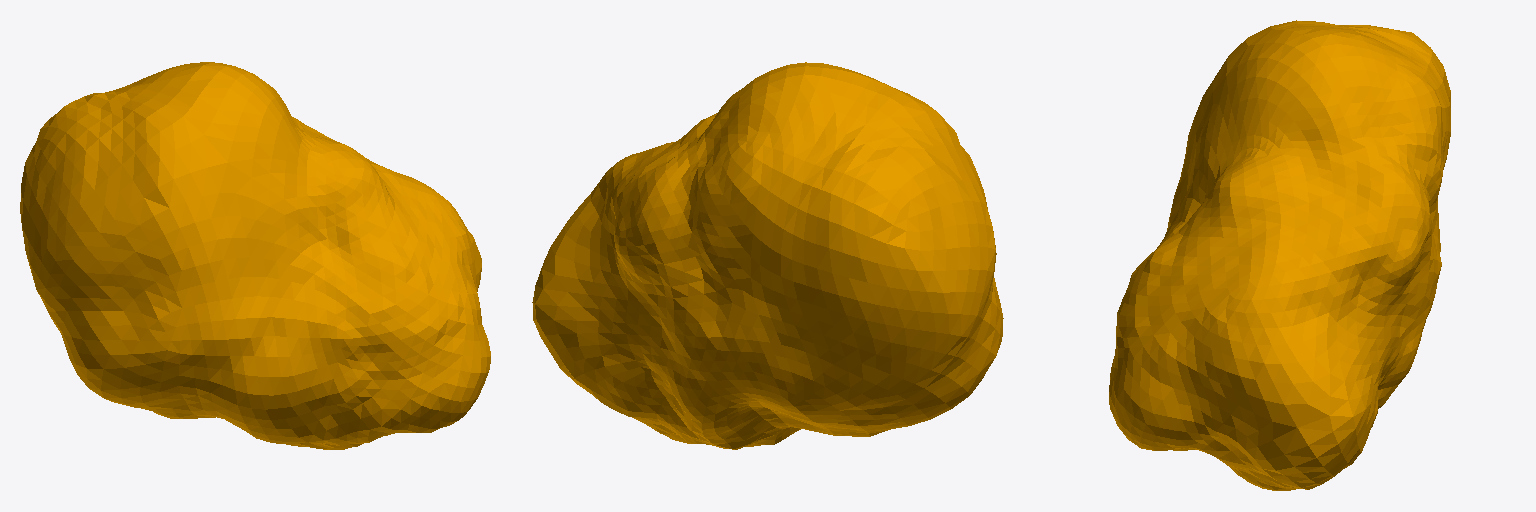
The robot description file, URDF, robot "rock":
<?xml version="1.0" ?>
<robot name="rock">
  <link name="rock">
    <inertial>
      <mass value="0.25"/>
      <origin rpy="0 0 0" xyz="0 0 0"/>
      <inertia ixx="0.00025" ixy="0" ixz="0" iyy="0.00025" iyz="0" izz="0.00025"/>
    </inertial>
    <collision name="rock_collision">
      <origin rpy="0 0 0" xyz="0 0 0"/>
      <geometry>
        <mesh filename="package://rock/meshes/rock2.stl" scale="1 1 1"/>
      </geometry>
    </collision>
    <visual name="rock_visual">
      <origin rpy="0 0 0" xyz="0 0 0"/>
      <geometry>
        <mesh filename="package://rock/meshes/rock2.dae" scale="1 1 1"/>
      </geometry>
    </visual>
  </link>
</robot>

--- What the picture shows (computed from the rendered views, not written in the file) ---
The picture shows the robot from 3 angles, left to right: view 1: azimuth 30°, elevation 25°; view 2: azimuth 150°, elevation 25°; view 3: azimuth 270°, elevation 25°; orthographic projection.
Robot: rock — 1 links, 0 joints (none); root link rock; default pose: all joints at 0.
Visible links, largest first — view 1: rock; view 2: rock; view 3: rock.
Boxes of the visible links, left/top/right/bottom form: rock: left=20, top=62, right=490, bottom=449; rock: left=532, top=62, right=1003, bottom=449; rock: left=1109, top=20, right=1450, bottom=490.
Bounding box of the posed robot: 0.0703 × 0.0497 × 0.0628 m (x, y, z).
Meshes: 1 distinct files referenced, 1 mesh visuals loaded (1 Collada DAE).